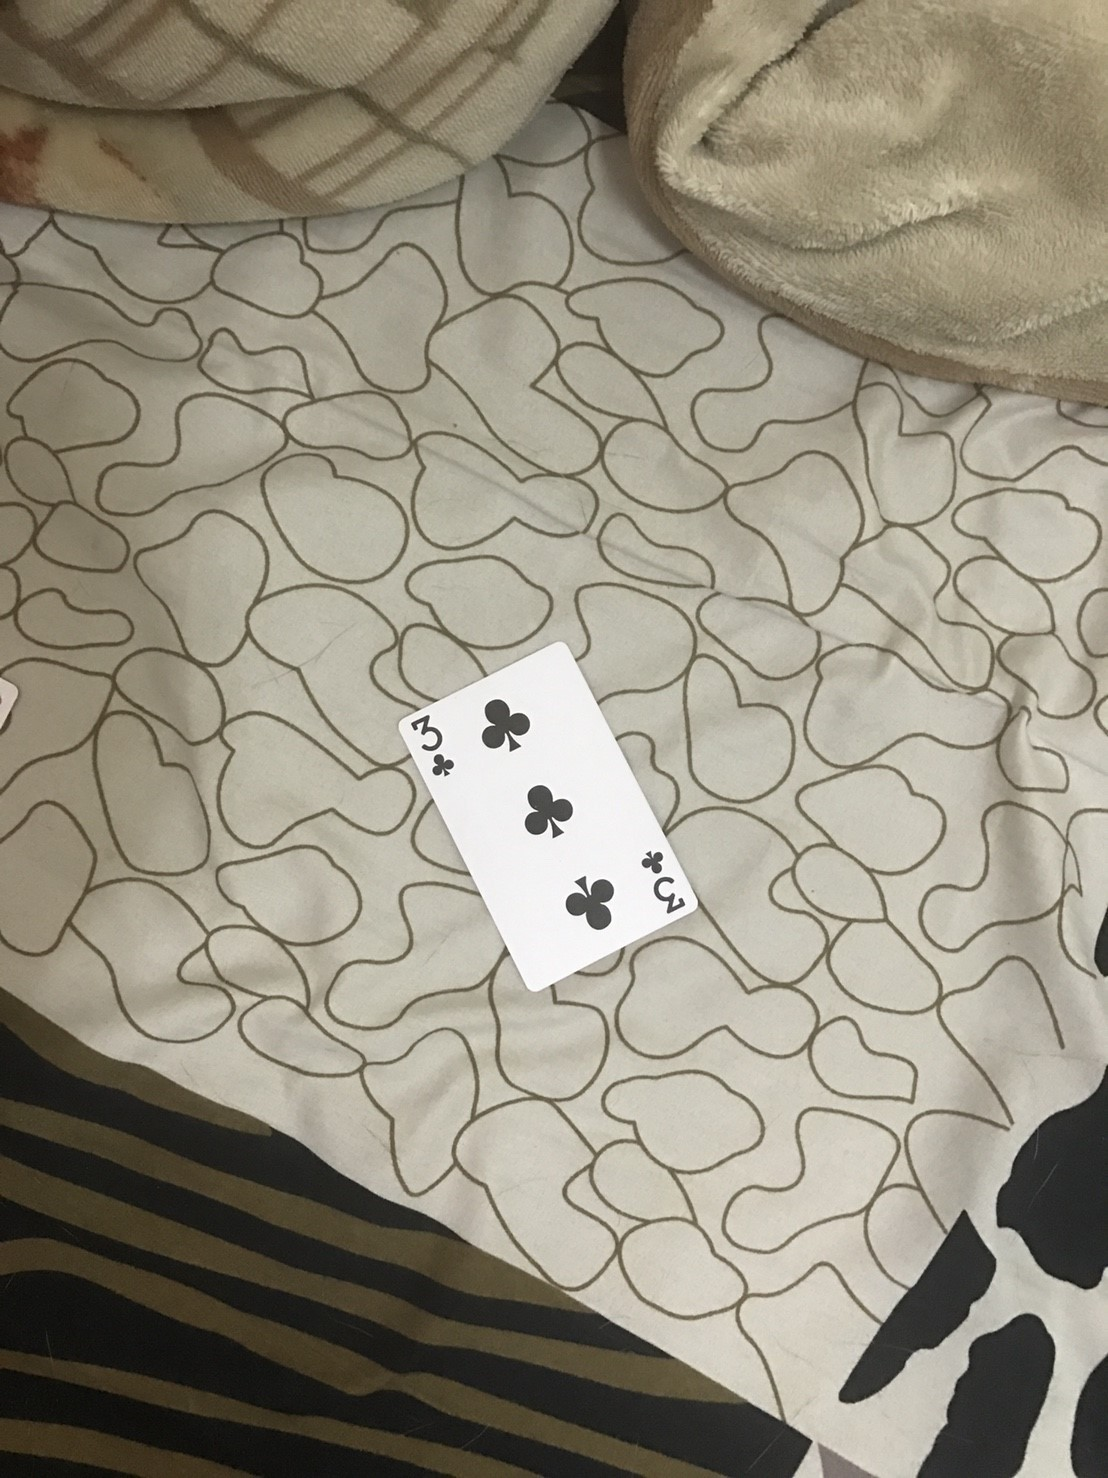clubs: (468, 692, 530, 756), (564, 874, 617, 933), (524, 783, 575, 843), (429, 752, 461, 776), (634, 847, 667, 871)
